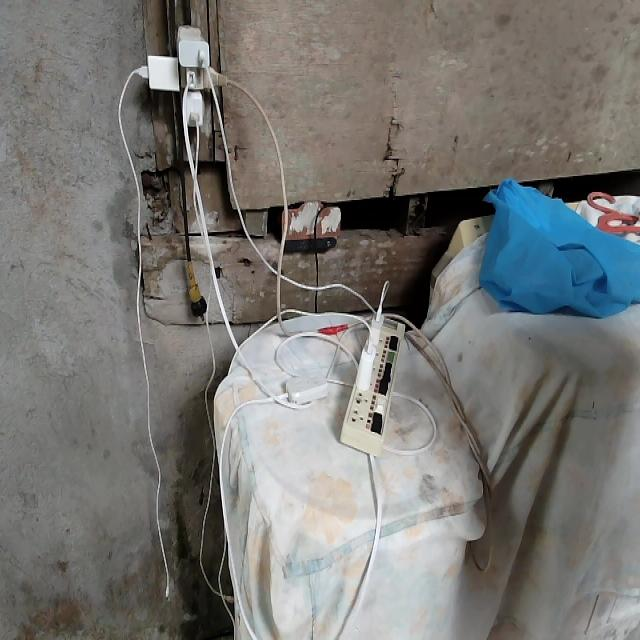-: (131, 21, 235, 130)
